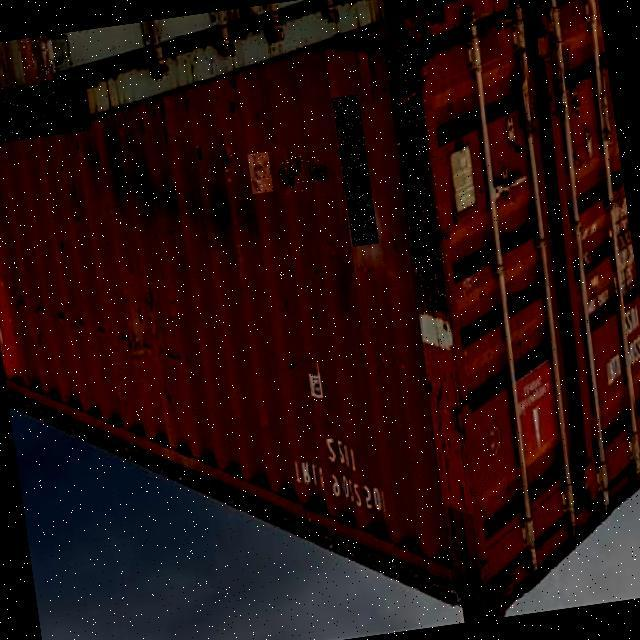Minor-Dent: (332, 95, 379, 247)
Rust: (384, 39, 456, 314), (0, 76, 91, 146), (20, 35, 62, 99), (277, 156, 307, 195), (248, 152, 274, 195), (305, 149, 330, 185), (221, 146, 235, 172), (197, 146, 203, 160), (231, 102, 238, 114)
